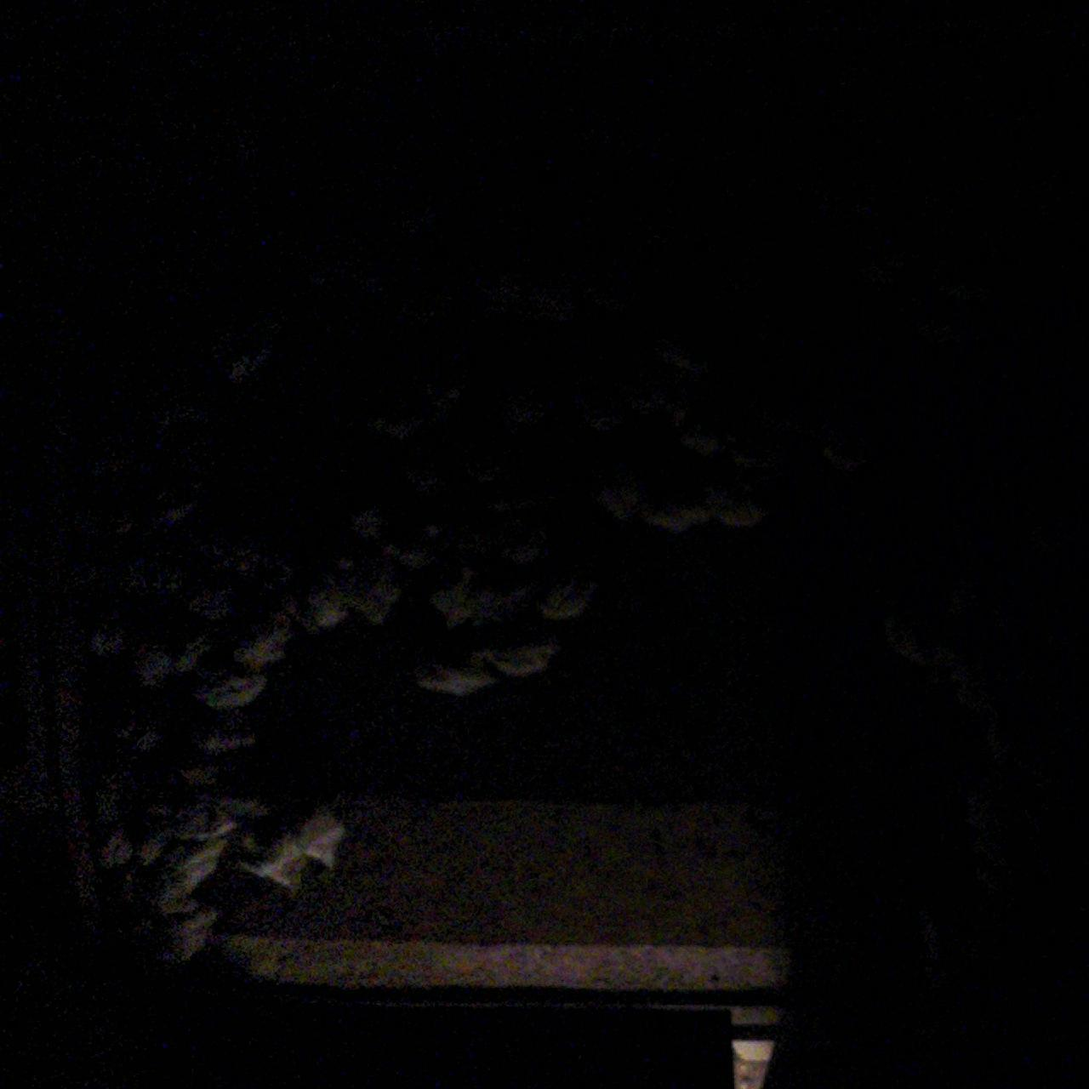chicken: (868, 597, 967, 678), (909, 898, 988, 994), (944, 669, 1025, 761), (125, 618, 215, 695), (204, 304, 287, 386), (939, 564, 1028, 639), (302, 233, 393, 303), (275, 563, 352, 642), (803, 404, 883, 480), (328, 549, 402, 627), (843, 230, 931, 295), (354, 387, 442, 452), (282, 802, 354, 880), (960, 777, 1050, 838), (565, 260, 649, 325), (402, 642, 496, 700), (78, 588, 153, 660), (135, 472, 218, 537), (184, 697, 262, 766), (105, 685, 173, 764), (39, 537, 120, 603), (151, 898, 221, 974), (206, 529, 291, 591), (558, 370, 630, 442), (80, 418, 146, 496), (472, 626, 562, 683), (530, 563, 605, 631), (382, 510, 458, 577), (133, 376, 217, 436), (186, 657, 270, 716), (581, 445, 641, 527), (388, 448, 468, 509), (148, 795, 240, 848), (898, 285, 972, 350), (962, 830, 1032, 898), (636, 480, 719, 537), (716, 426, 803, 480), (430, 561, 494, 634), (238, 831, 304, 901), (112, 826, 163, 916), (493, 364, 560, 432), (450, 421, 513, 493), (1021, 497, 1089, 563), (155, 833, 228, 894), (700, 471, 768, 536), (644, 322, 718, 381), (50, 497, 137, 547), (928, 249, 998, 310), (470, 258, 540, 319), (388, 271, 460, 330), (244, 593, 299, 670), (422, 339, 479, 411), (116, 545, 186, 603), (193, 779, 280, 825), (604, 360, 674, 414), (335, 481, 392, 546), (178, 577, 249, 629), (670, 408, 742, 458), (519, 274, 583, 330), (493, 516, 559, 570), (381, 186, 445, 241), (85, 803, 127, 874)
